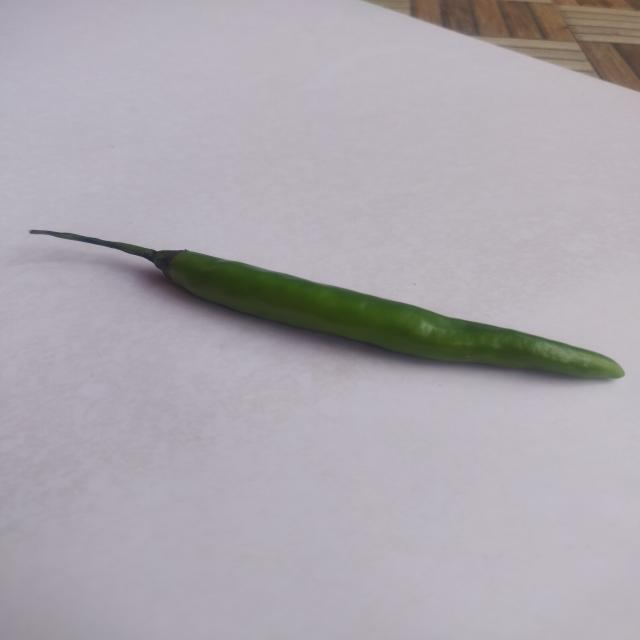Green Chilly: (28, 230, 625, 379)
